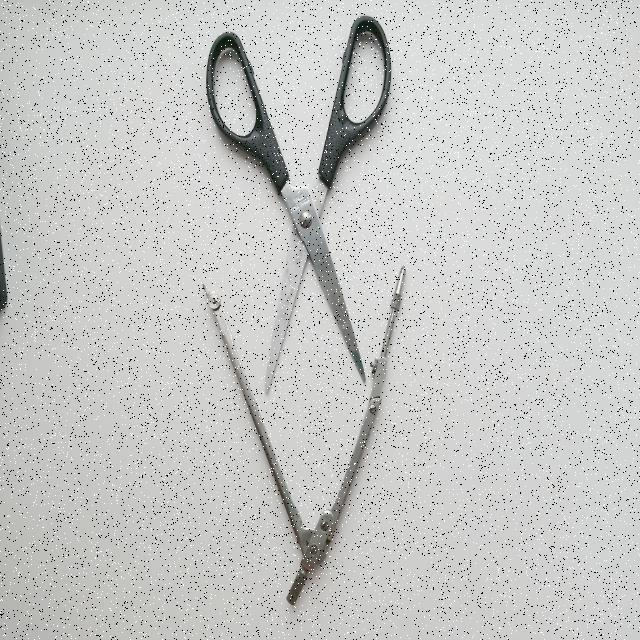scissors: (197, 12, 400, 413)
